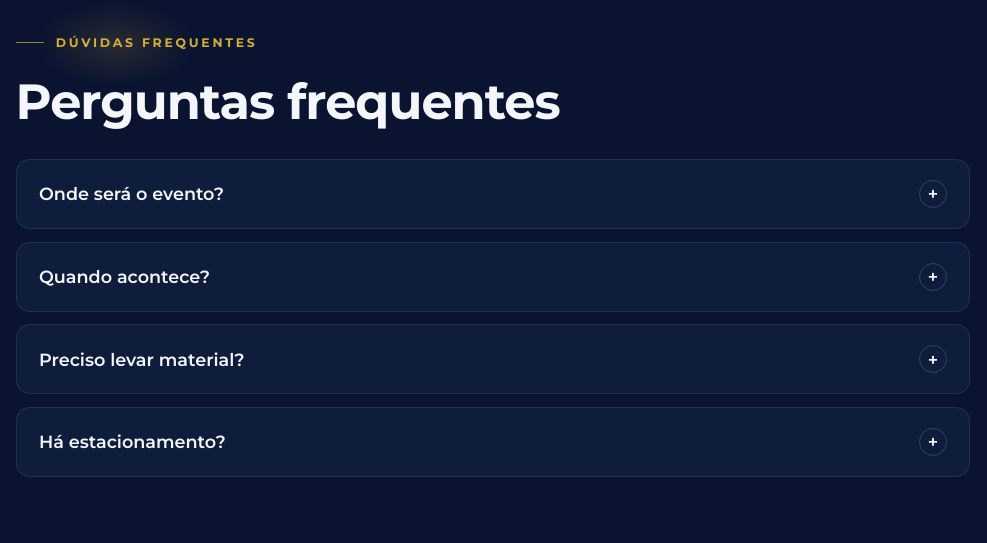
Test: FaqSection › single-open behavior (Req 12.2/12.3/12.5) › collapses the open item when it is activated again (none open)
This screenshot has width=987, height=543.
Click the button "Quando acontece? +": coordinates (124, 276) x1=16 y1=243 x2=969 y2=310
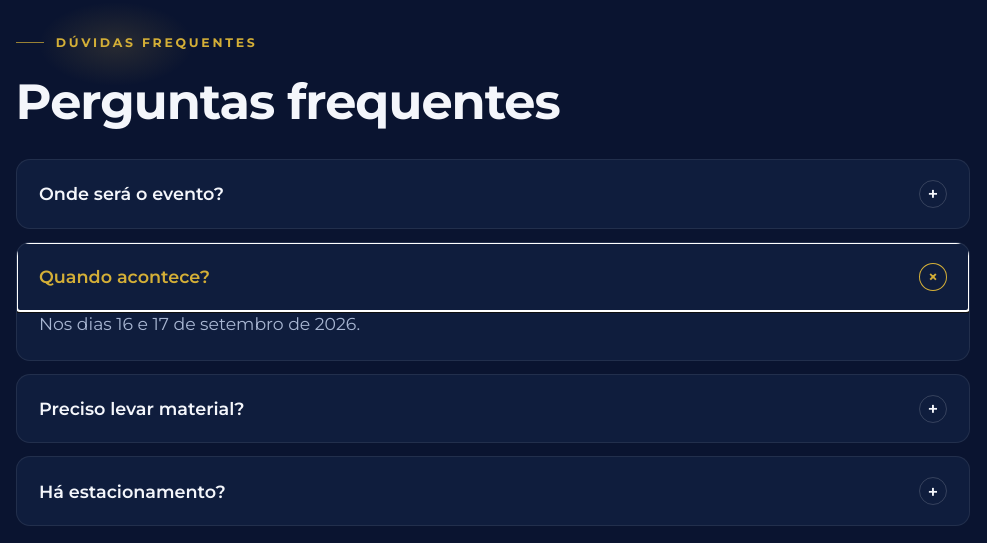
expect the button "Quando acontece? +" is expanded: met
Click the button "Quando acontece? +": coordinates (124, 276) x1=16 y1=243 x2=969 y2=310
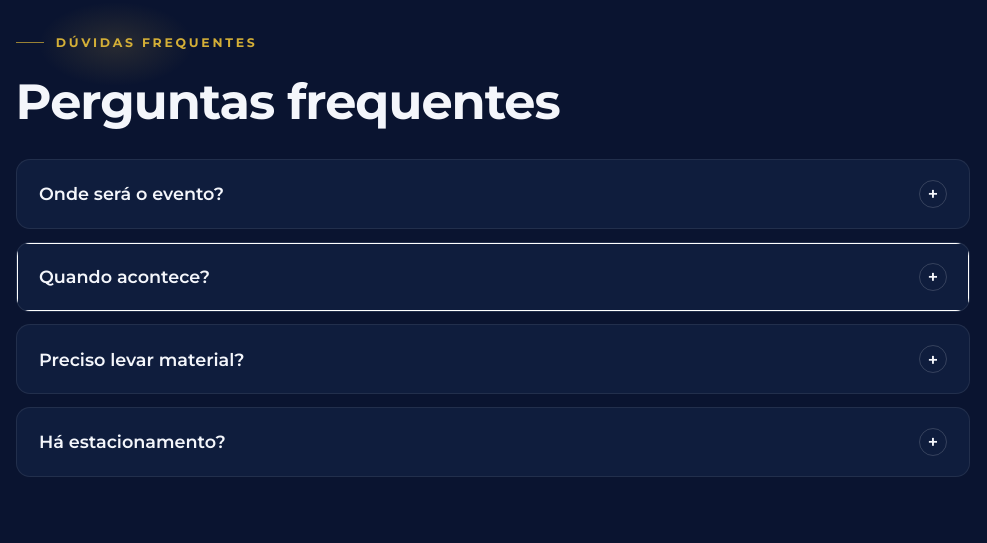
expect the button "Quando acontece? +" is collapsed: met, box x1=16 y1=243 x2=969 y2=310
